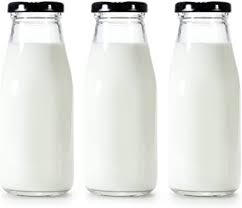milk: (2, 2, 81, 200), (166, 3, 242, 205), (85, 1, 162, 195)
